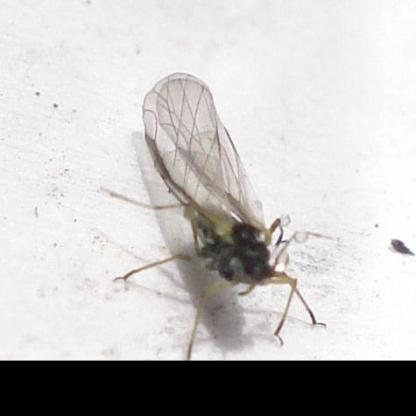aphid: (108, 68, 330, 351)
